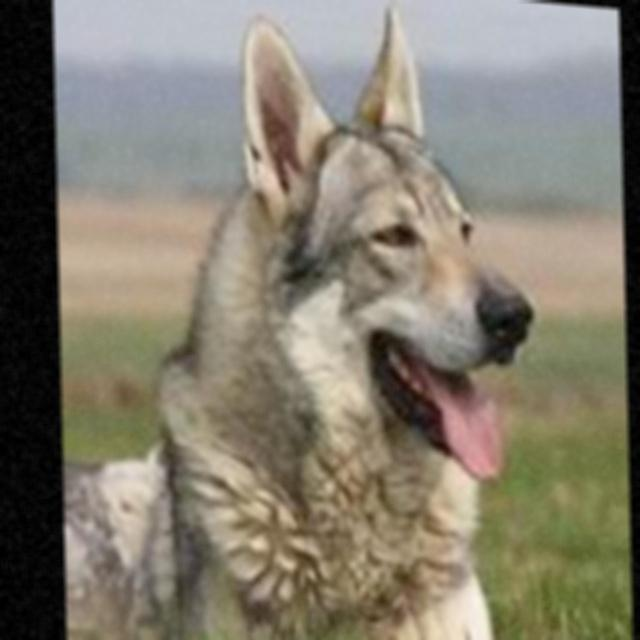dog: (58, 0, 542, 640)
